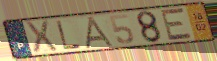5: (108, 13, 136, 45)
8: (136, 10, 163, 44)
A: (84, 15, 117, 49)
E: (160, 7, 194, 42)
L: (55, 19, 83, 51)
X: (24, 19, 60, 55)
